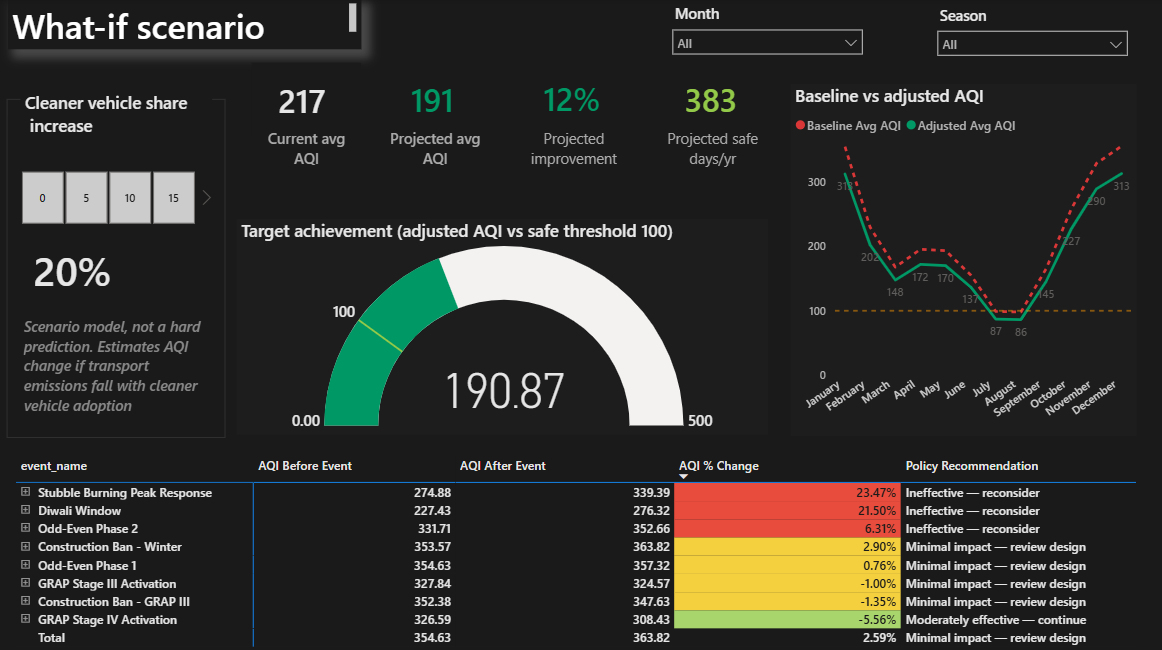

This screenshot's page, from the dashboard's own definition file:
{"tool":"powerbi","page":{"name":"Page 5","canvas":[1280,720],"ordinal":4},"visuals":[{"type":"shape","box":[9.2,109.2,240,372.3],"z":0},{"type":"textbox","box":[10.8,0,387.7,55.4],"z":1000},{"type":"slicer","fields":{"Values":["delhiaqi dim_date.month_name"]},"box":[730.4,0,229,68.1],"z":2000},{"type":"slicer","fields":{"Values":["delhiaqi dim_date.Season"]},"box":[1020.3,1.7,228.8,67.8],"z":3000},{"type":"slicer","fields":{"Values":["Cleaner Vehicle Share Increase %.Cleaner Vehicle Share Increase %"]},"box":[0,183.1,240,70.8],"z":4000},{"type":"textbox","box":[24.6,95.4,210.8,69.2],"z":5000},{"type":"cardVisual","fields":{"Data":["What if.Selected Vehicle Share Label"]},"box":[9.2,253.8,240,83.1],"z":6000},{"type":"textbox","box":[23.1,343.1,210.8,120],"z":7000},{"type":"cardVisual","fields":{"Data":["What if.Baseline Avg AQI"]},"box":[278.3,69.6,120.3,79.7],"z":8000},{"type":"cardVisual","fields":{"Data":["What if.Adjusted Avg AQI"]},"box":[424.6,68.1,120.3,79.7],"z":9000},{"type":"cardVisual","fields":{"Data":["What if.AQI Reduction %"]},"box":[569.2,67.7,124.6,80],"z":10000},{"type":"cardVisual","fields":{"Data":["What if.Projected Safe Days"]},"box":[724.6,68.1,120.3,79.7],"z":11000},{"type":"textbox","box":[278.5,136.9,120,53.8],"z":12000},{"type":"textbox","box":[420,136.9,120,55.4],"z":13000},{"type":"textbox","box":[572.3,136.9,120,55.4],"z":14000},{"type":"textbox","box":[724.6,136.9,120,81.5],"z":15000},{"type":"lineChart","title":"Baseline vs adjusted AQI","fields":{"Category":["delhiaqi dim_date.month_name"],"Y":["What if.Baseline Avg AQI","What if.Adjusted Avg AQI"]},"box":[869.5,93.2,379.7,386.4],"z":16000},{"type":"pivotTable","fields":{"Rows":["delhiaqi policy_events.event_name","delhiaqi policy_events.event_type"],"Values":["_Measures.AQI Before Event","_Measures.AQI After Event","_Measures.AQI % Change","What if.Policy Recommendation"]},"box":[15.4,496.9,1249.2,223.1],"z":17000},{"type":"gauge","title":"Target achievement (adjusted AQI vs safe threshold 100)","fields":{"Y":["What if.Adjusted Avg AQI"],"TargetValue":["What if.Safe Threshold"],"MaxValue":["What if.Max AQI Scale"]},"box":[261.5,241.5,583.1,236.9],"z":18000}]}

Visuals, with their boxes in screenshot pixels (x1, y1, x2, y2), scaled from the page's 1280x720 canvas onto the 1162x650 screenshot:
shape: [8,99,226,435]
textbox: [10,0,362,50]
slicer - delhiaqi dim_date.month_name: [663,0,871,61]
slicer - delhiaqi dim_date.Season: [926,2,1134,63]
slicer - Cleaner Vehicle Share Increase %.Cleaner Vehicle Share Increase %: [0,165,218,229]
textbox: [22,86,214,149]
cardVisual - What if.Selected Vehicle Share Label: [8,229,226,304]
textbox: [21,310,212,418]
cardVisual - What if.Baseline Avg AQI: [253,63,362,135]
cardVisual - What if.Adjusted Avg AQI: [385,61,495,133]
cardVisual - What if.AQI Reduction %: [517,61,630,133]
cardVisual - What if.Projected Safe Days: [658,61,767,133]
textbox: [253,124,362,172]
textbox: [381,124,490,174]
textbox: [520,124,628,174]
textbox: [658,124,767,197]
"Baseline vs adjusted AQI" lineChart: [789,84,1134,433]
pivotTable - delhiaqi policy_events.event_name x delhiaqi policy_events.event_type: [14,449,1148,649]
"Target achievement (adjusted AQI vs safe threshold 100)" gauge: [237,218,767,432]
